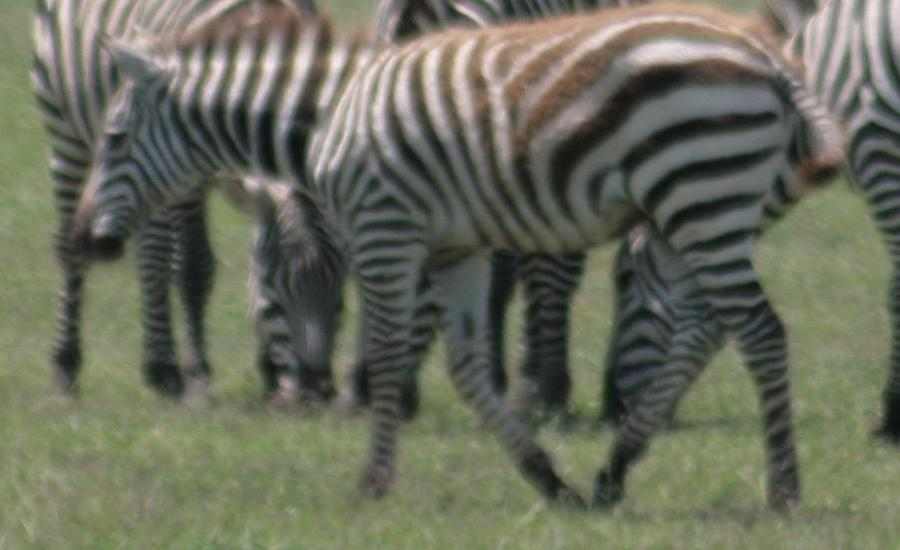zebra_plains: (245, 43, 863, 438)
